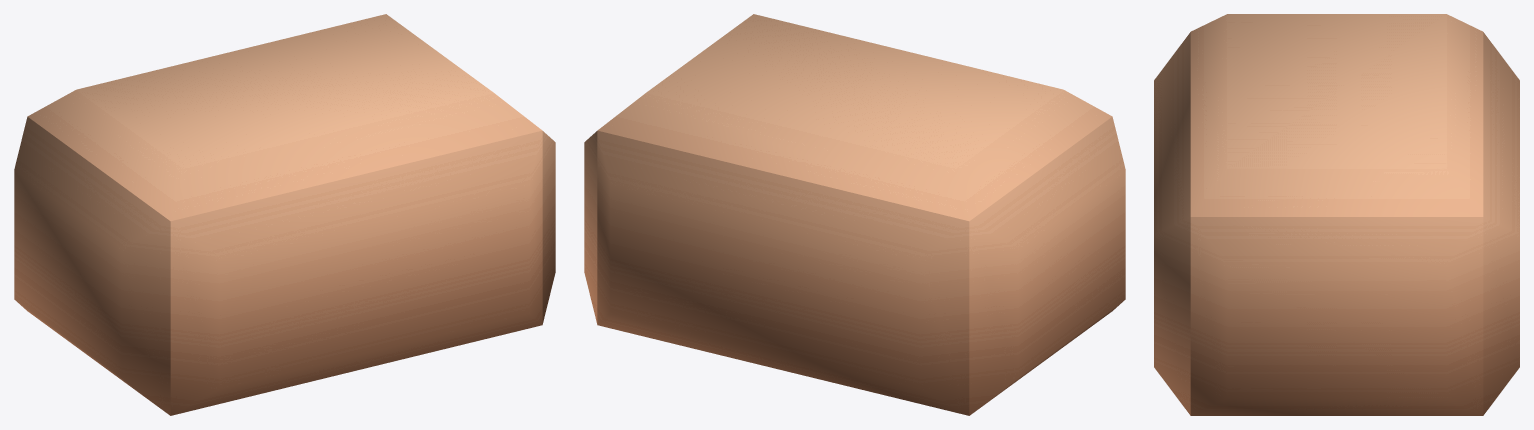
The model's file is hay-bale.glb.
3 renders of one model, left to right at view 1: azimuth 30°, elevation 25°; view 2: azimuth 150°, elevation 25°; view 3: azimuth 270°, elevation 25°, orthographic. The views are drawn at different scales.
Visible parts, largest first — view 1: hay-bale; view 2: hay-bale; view 3: hay-bale.
Boxes of the visible parts, x1,y1,x2,y2 form: hay-bale: (14, 14, 555, 415); hay-bale: (584, 14, 1125, 415); hay-bale: (1154, 14, 1519, 415).
Size of the model in its own units: 0.7 by 0.35 by 0.5.
Materials: 1 (1 with a texture image).
